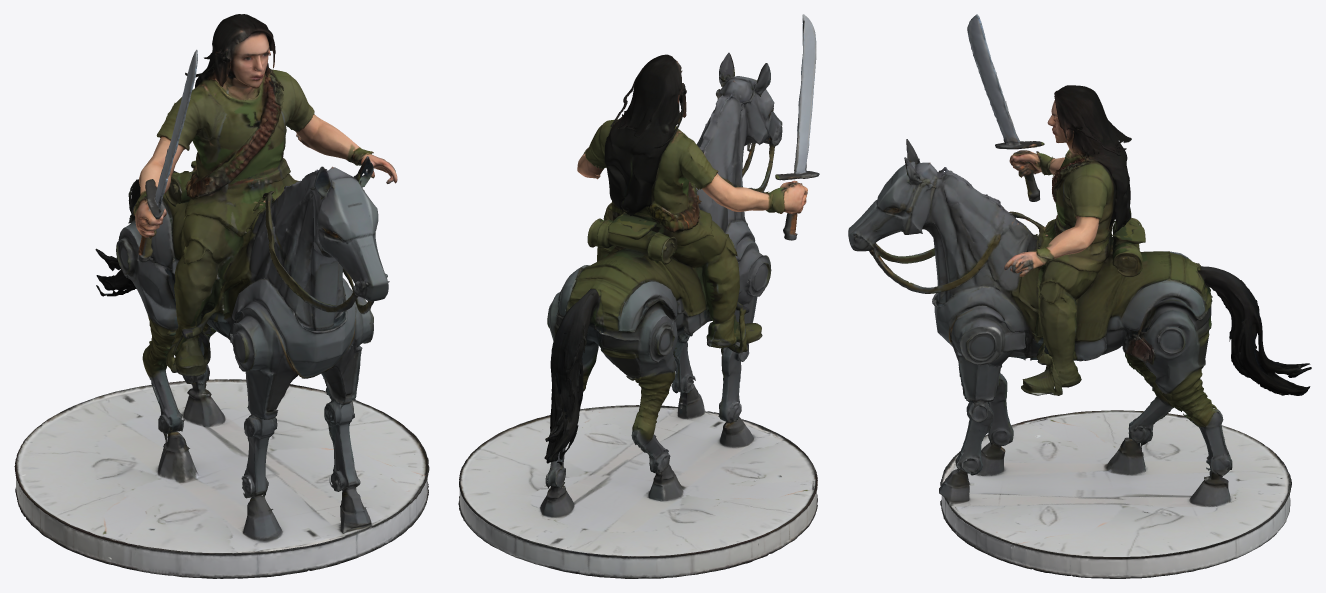
The model's file is Knight_of_the_Future.glb.
The picture shows the model from 3 angles, left to right: view 1: azimuth 30°, elevation 25°; view 2: azimuth 150°, elevation 25°; view 3: azimuth 270°, elevation 25°; orthographic projection. The views are drawn at different scales.
Bounding box in the file's own units: 1.42 × 2 × 1.88.
Materials: 1 (1 with a texture image).
